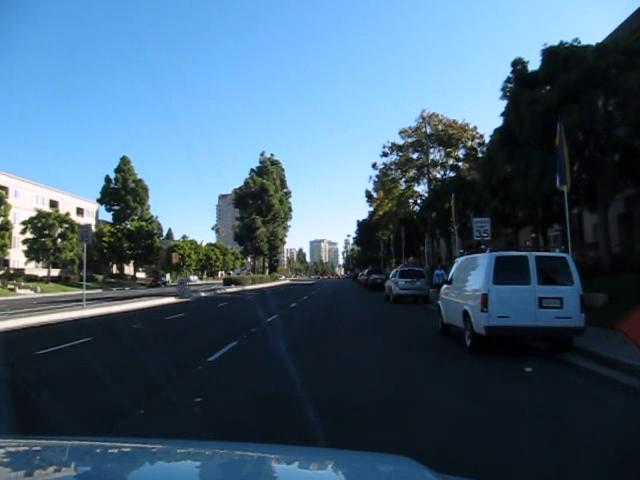speedLimit35: (471, 216, 491, 240)
